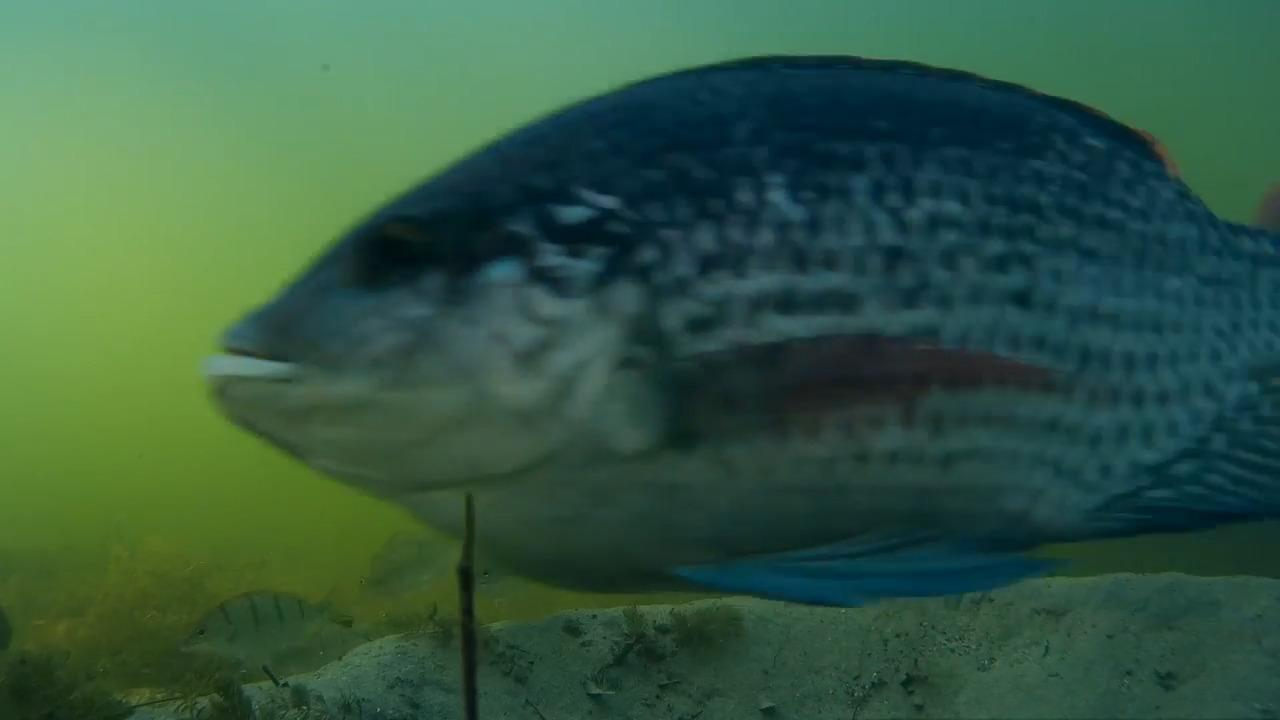Tilapia: (174, 21, 1280, 652), (139, 566, 348, 668), (343, 512, 434, 608)
